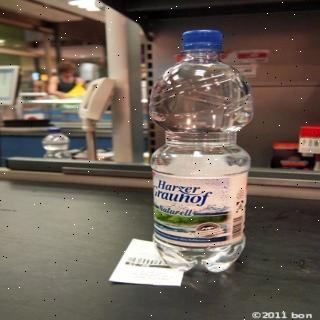Plastic-bottle: (140, 31, 258, 275)
